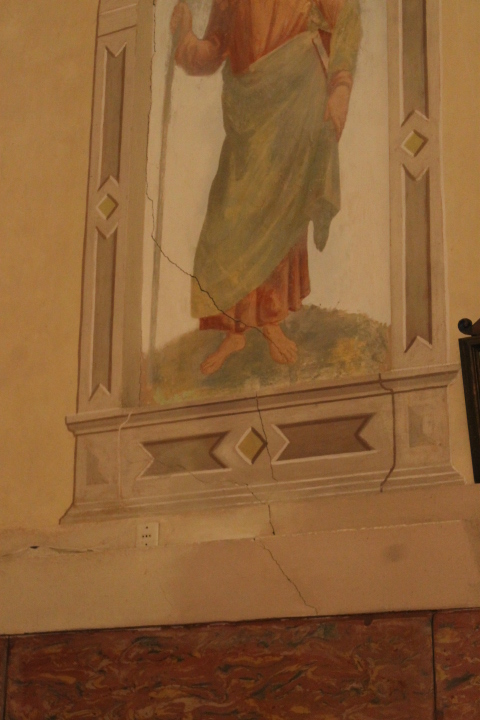Crack: (11, 2, 430, 620)
